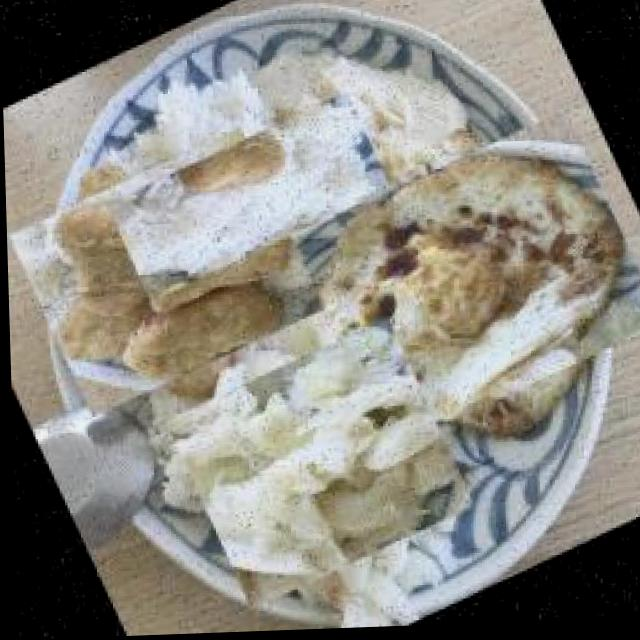chicken_nuggets: (11, 119, 318, 428)
chinese_cabbage: (165, 312, 470, 618)
fried_eggs: (280, 98, 640, 472)
rice: (122, 72, 373, 325)
